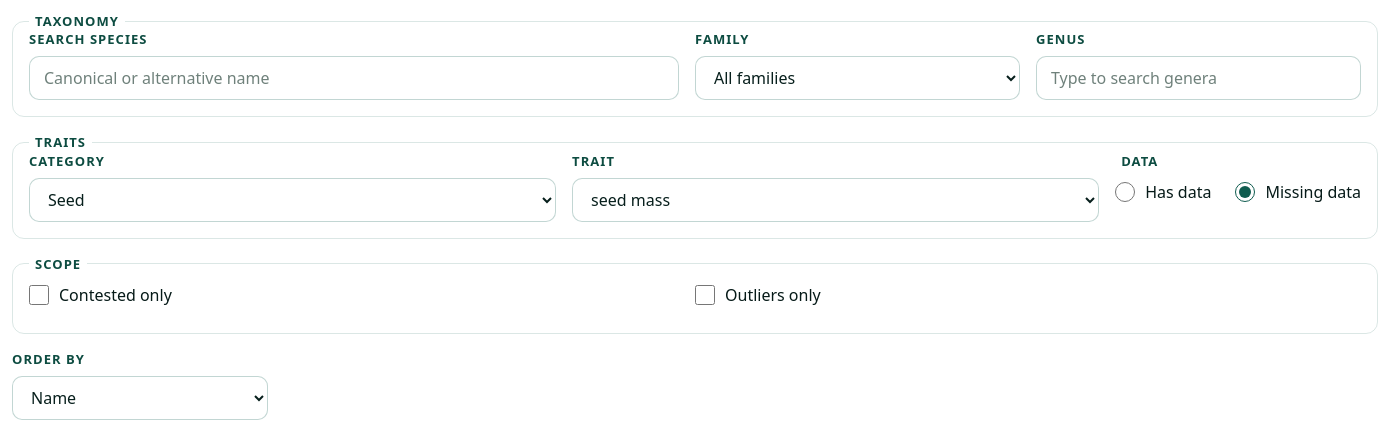
Scenario: RFC-60 R6 SpeciesSearchForm trait filters › clears the mode when the trait that derived the category is cleared
Select "All traits" in the dropdown labelled "Trait": point(836, 200) top-left (572, 178), bottom-right (1099, 222)
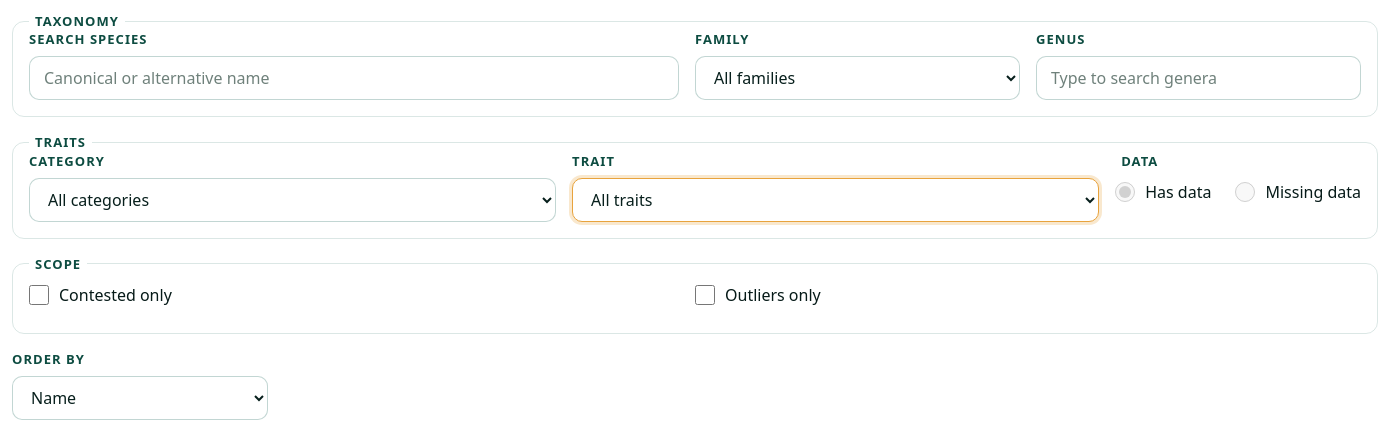
Check: the radio button labelled "Missing data" is disabled, box top-left (1235, 182), bottom-right (1255, 202)
Check: the radio button labelled "Missing data" is not checked, box top-left (1235, 182), bottom-right (1255, 202)
